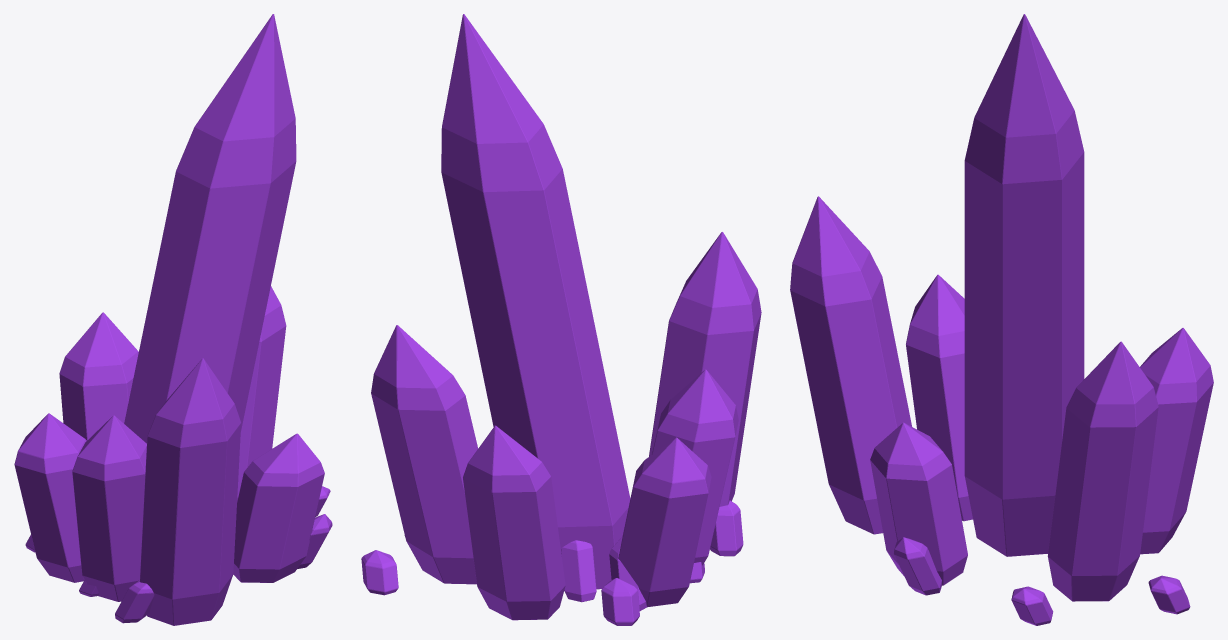
The model's file is violet-crystal.glb.
3 renders of one model, left to right at view 1: azimuth 30°, elevation 25°; view 2: azimuth 150°, elevation 25°; view 3: azimuth 270°, elevation 25°, orthographic. The views are drawn at different scales.
Visible parts, largest first — view 1: violet-crystal; view 2: violet-crystal; view 3: violet-crystal.
Part boxes in pixels (<box>): violet-crystal: <box>14,14,332,625</box>; violet-crystal: <box>361,14,761,625</box>; violet-crystal: <box>790,14,1213,625</box>.
Bounding box in the file's own units: 1.62 × 2.6 × 1.71.
